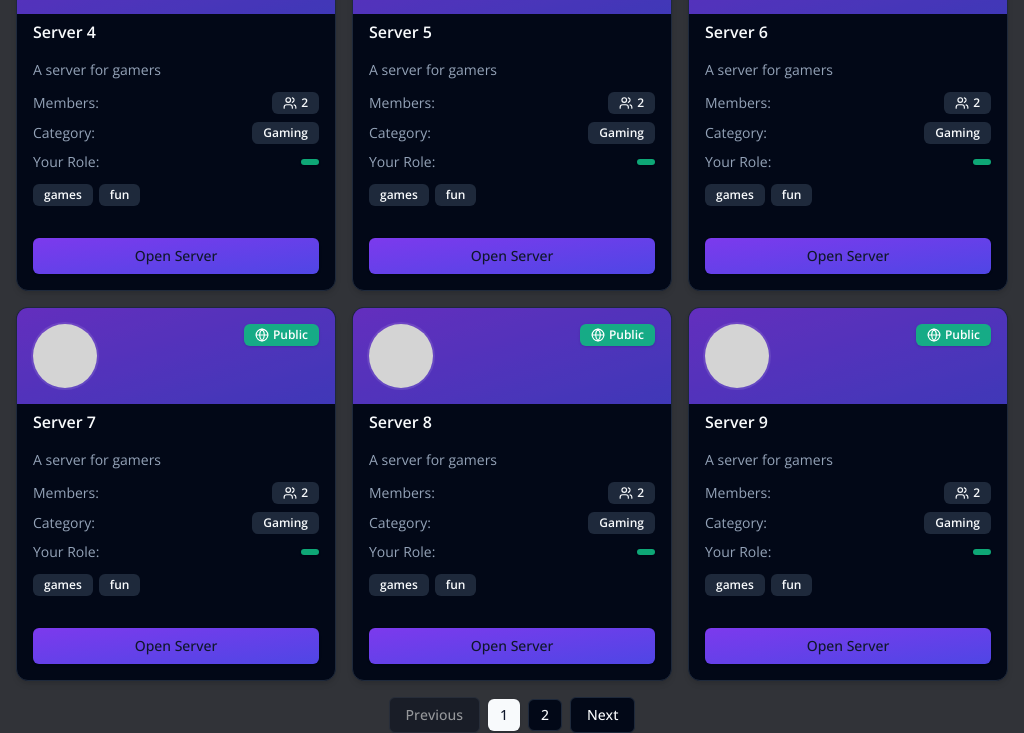
UserServers Component › Pagination › handles navigation between pages correctly
The width and height of the screenshot is (1024, 733).
(page scrolled)
Expected: the heading "Server 9" is shown, [705, 411, 768, 433]
Expected: the text "Server 10" is not shown
# Navigate to next page
What coordinates should you click on to do the following:
click the button "Next"
I would click on:
 (603, 715)
Its box is [570, 697, 635, 732].
(page scrolled)
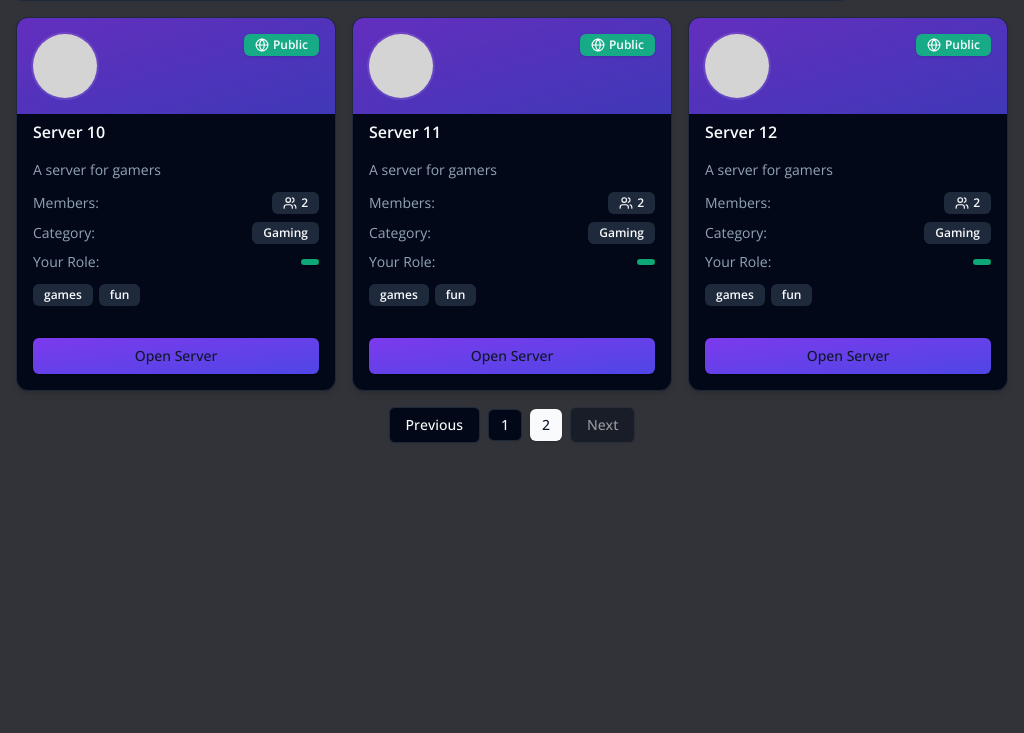
Expected: the heading "Server 10" is shown, [33, 121, 105, 143]
Expected: the button "Next" is disabled, [570, 407, 635, 443]
Expected: the button "Previous" is enabled, [389, 407, 480, 443]
